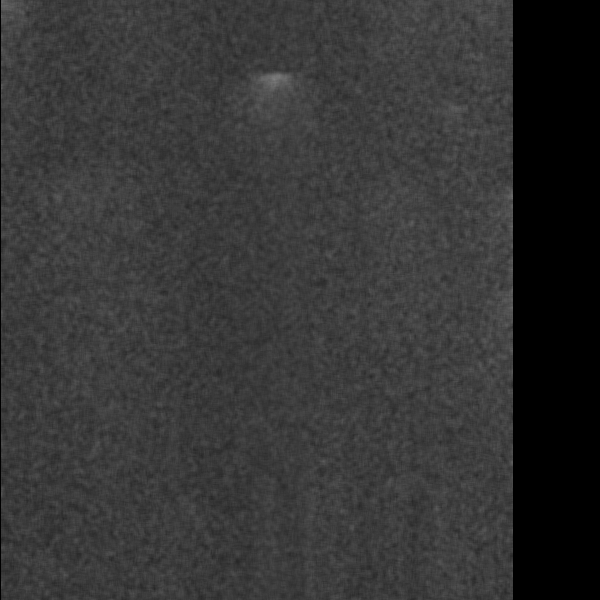spark: (433, 293, 469, 382), (304, 461, 326, 600), (189, 191, 232, 224)
